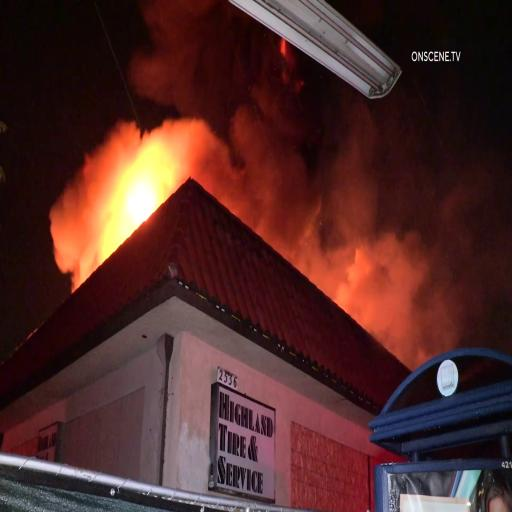fire: (124, 148, 164, 230)
smoke: (258, 94, 509, 260)
